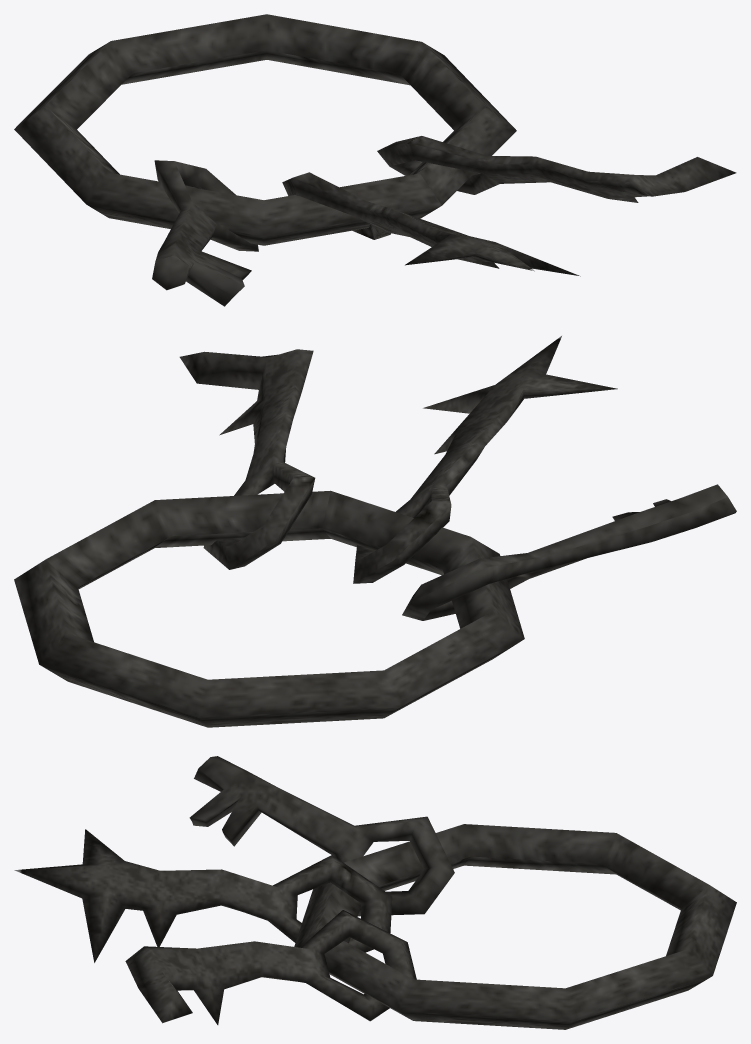
The model's file is KeyChain_1.fbx.
3 renders of one model, top to bottom at view 1: azimuth 30°, elevation 25°; view 2: azimuth 150°, elevation 25°; view 3: azimuth 270°, elevation 25°, orthographic. The views are drawn at different scales.
Visible parts, largest first — view 1: KeyChain1; view 2: KeyChain1; view 3: KeyChain1.
Boxes of the visible parts, <box> form: KeyChain1: <box>14,14,736,306</box>; KeyChain1: <box>14,336,736,727</box>; KeyChain1: <box>14,756,736,1029</box>.
Bounding box in the file's own units: 31.98 × 5.22 × 39.36.
Materials: 1 (1 with a texture image).
